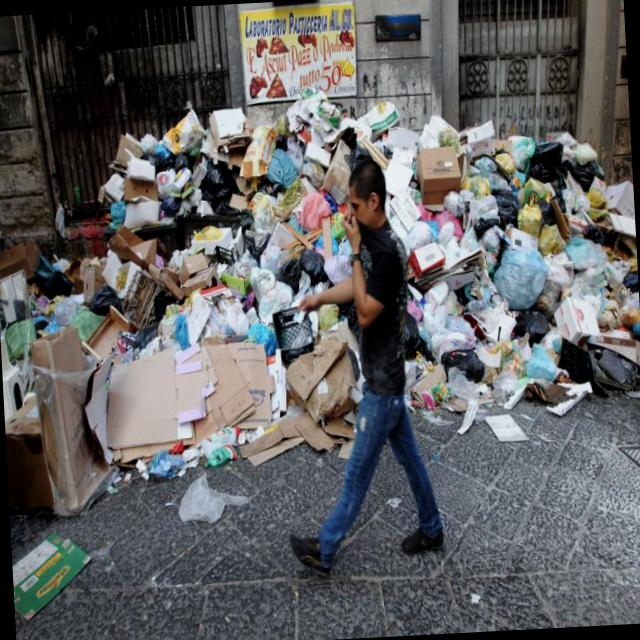garbage: (0, 101, 363, 521)
